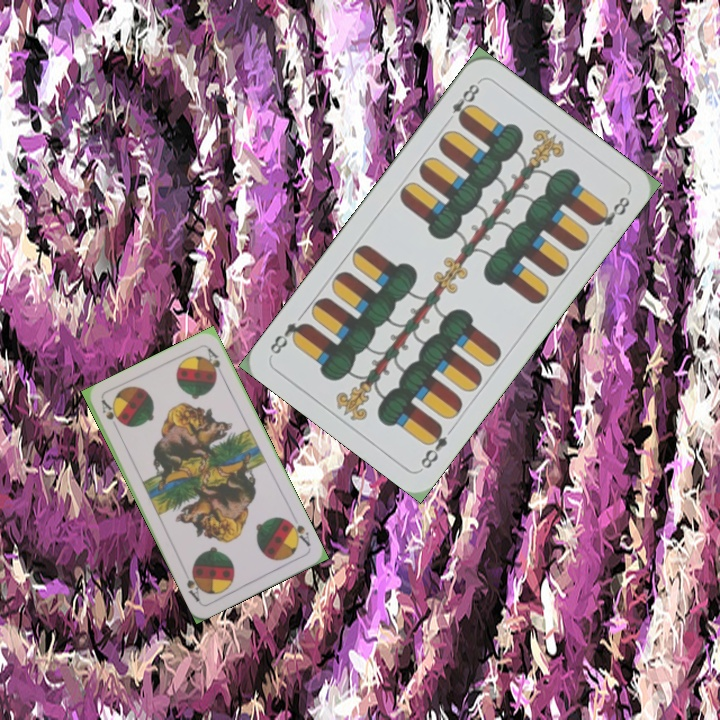E8: (416, 420, 451, 472), (447, 77, 483, 126)
SA: (283, 516, 313, 549), (98, 396, 122, 434)
